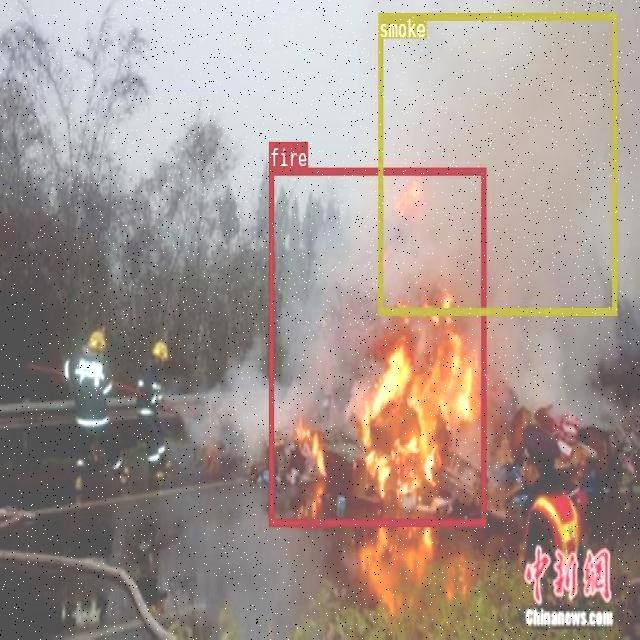fire: (268, 166, 486, 524)
smoke: (378, 12, 616, 314)
